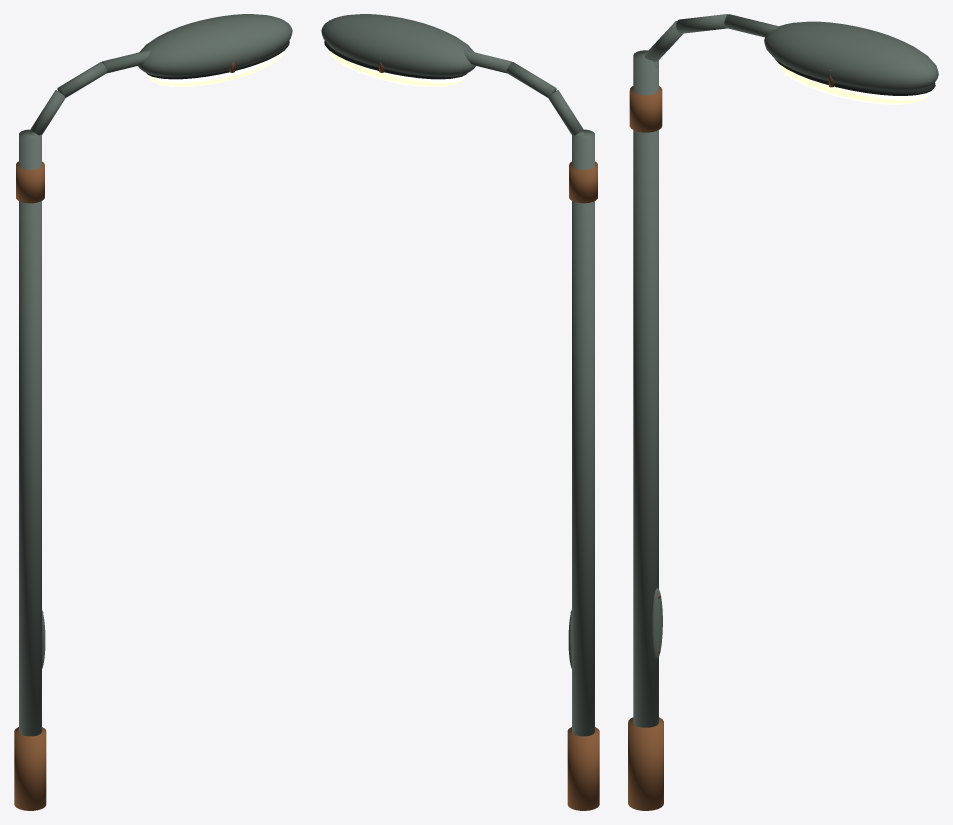
File: street_lamp_1980s.glb
The picture shows the model from 3 angles, left to right: view 1: azimuth 30°, elevation 25°; view 2: azimuth 150°, elevation 25°; view 3: azimuth 330°, elevation 25°; orthographic projection. The views are drawn at different scales.
Parts seen in each view (by area): view 1: Tapered utility pole, Cast aluminum oval canopy, Ground sleeve, Prismatic glass bowl, Mount collar, Swept bracket.002, Swept bracket.001, Swept bracket.003, Lens retaining gasket; view 2: Tapered utility pole, Cast aluminum oval canopy, Ground sleeve, Prismatic glass bowl, Mount collar, Swept bracket.002, Swept bracket.001, Swept bracket.003, Lens retaining gasket; view 3: Tapered utility pole, Cast aluminum oval canopy, Ground sleeve, Prismatic glass bowl, Mount collar, Lens retaining gasket, Swept bracket.002, Swept bracket.003, Service hatch, Swept bracket.001.
Part boxes in pixels (x1,y1,x2,y2): Tapered utility pole: (19,129,41,736); Cast aluminum oval canopy: (138,14,292,76); Ground sleeve: (14,727,46,810); Prismatic glass bowl: (148,50,284,86); Mount collar: (16,161,44,203); Swept bracket.002: (57,62,106,97); Swept bracket.001: (30,90,65,135); Swept bracket.003: (101,50,150,73); Lens retaining gasket: (146,41,289,79); Tapered utility pole: (572,129,594,736); Cast aluminum oval canopy: (321,14,475,76); Ground sleeve: (567,727,599,810); Prismatic glass bowl: (329,50,465,86); Mount collar: (569,161,597,203); Swept bracket.002: (507,62,556,97); Swept bracket.001: (548,90,583,135); Swept bracket.003: (463,50,512,73); Lens retaining gasket: (324,41,467,79); Tapered utility pole: (633,50,658,727); Cast aluminum oval canopy: (764,21,938,90); Ground sleeve: (628,717,663,810); Prismatic glass bowl: (778,63,930,104); Mount collar: (629,86,662,132); Lens retaining gasket: (775,59,935,95); Swept bracket.002: (676,14,727,33); Swept bracket.003: (724,14,779,37); Service hatch: (651,588,662,659); Swept bracket.001: (646,21,682,61).
Size of the model in its own units: 2.05 by 5.27 by 0.5.
